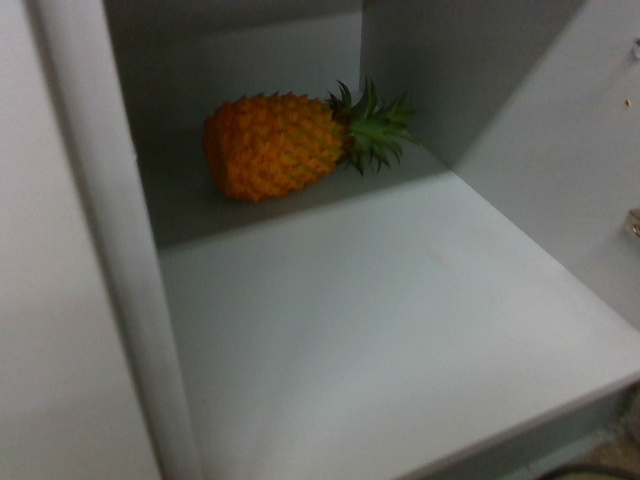pineapple: (203, 84, 404, 197)
